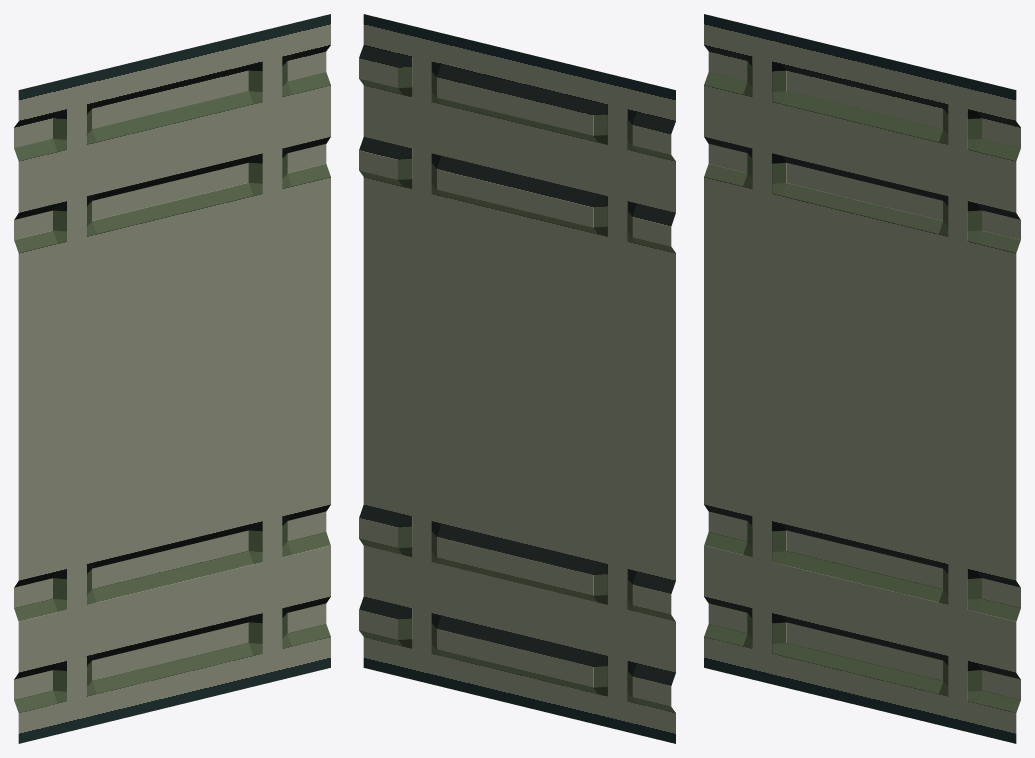
Rendered from Wall_01.glb.
The picture shows the model from 3 angles, left to right: view 1: azimuth 30°, elevation 25°; view 2: azimuth 150°, elevation 25°; view 3: azimuth 330°, elevation 25°; orthographic projection.
Parts seen in each view (by area): view 1: Wall_01; view 2: Wall_01; view 3: Wall_01.
Boxes of the visible parts, box(x1,y1,x2,y2) form: Wall_01: box(14, 14, 330, 743); Wall_01: box(359, 14, 675, 743); Wall_01: box(704, 14, 1020, 743).
Bounding box in the file's own units: 1 × 2 × 0.025.
Materials: 1 (1 with a texture image).
